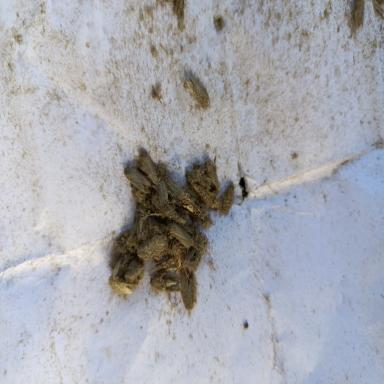pbw: (169, 223, 202, 251), (137, 234, 169, 262), (192, 180, 220, 209), (185, 76, 210, 107), (124, 166, 150, 192), (140, 151, 158, 186), (151, 194, 176, 218), (150, 274, 182, 292), (181, 198, 207, 220), (186, 170, 211, 191), (182, 275, 196, 311), (204, 160, 220, 191), (108, 275, 132, 295), (351, 0, 365, 30), (152, 256, 176, 273), (220, 185, 234, 213), (137, 208, 149, 238), (158, 180, 168, 205)
